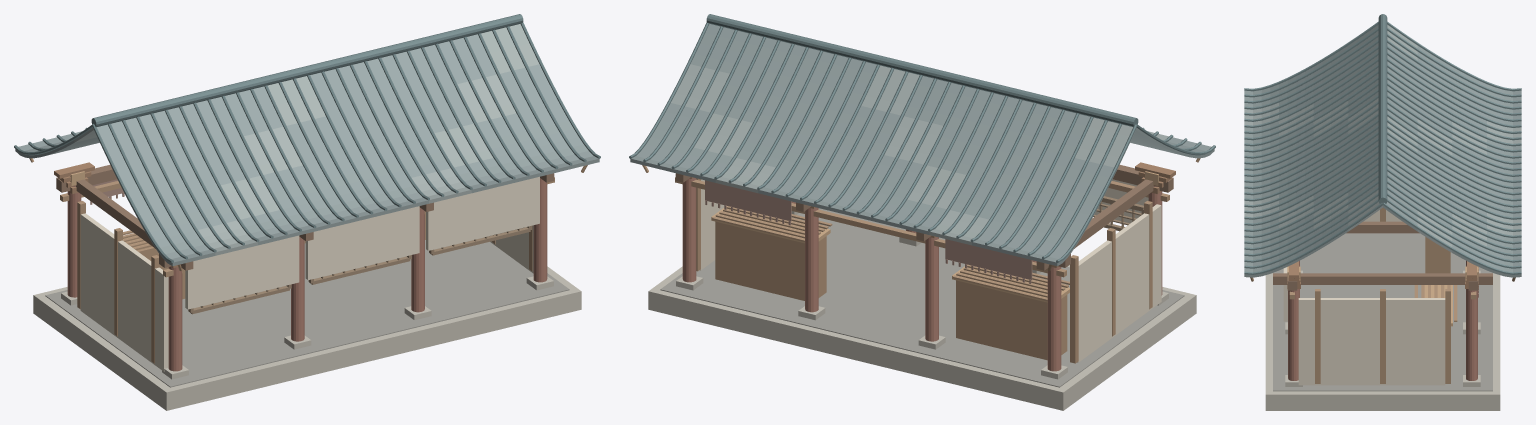
File: market-pavilion.glb
3 views of the same model, side by side, from view 1: azimuth 30°, elevation 25°; view 2: azimuth 150°, elevation 25°; view 3: azimuth 270°, elevation 25° (orthographic). The views are drawn at different scales.
Visible parts, largest first — view 1: roof, plaster, tile_joint, stone_dark, stone, roof_alt, post, timber_lit, timber, screens, bracket; view 2: roof, tile_joint, stone_dark, timber_lit, stone, roof_alt, plaster, post, fabric, timber, beam_end, bracket (+1 smaller); view 3: tile_joint, roof, plaster, stone_dark, stone, roof_alt, timber, timber_lit, post, bracket, beam_end.
Part boxes in pixels (x1,y1,x2,y2): roof: (15, 34, 599, 266); plaster: (80, 176, 539, 371); tile_joint: (14, 14, 600, 262); stone_dark: (45, 237, 569, 387); stone: (33, 266, 581, 410); roof_alt: (74, 24, 539, 255); post: (67, 178, 547, 371); timber_lit: (29, 158, 587, 363); timber: (56, 165, 554, 270); screens: (188, 225, 531, 314); bracket: (54, 162, 540, 267); roof: (630, 24, 1214, 266); tile_joint: (629, 14, 1215, 262); stone_dark: (660, 208, 1184, 387); timber_lit: (642, 158, 1200, 363); stone: (648, 211, 1196, 410); roof_alt: (671, 64, 1168, 245); plaster: (700, 179, 1161, 362); post: (682, 177, 1162, 371); fabric: (705, 180, 1032, 283); timber: (675, 165, 1173, 270); beam_end: (711, 171, 1159, 302); bracket: (689, 162, 1175, 267); tile_joint: (1244, 14, 1521, 274); roof: (1244, 24, 1521, 277); plaster: (1283, 210, 1445, 385); stone_dark: (1273, 233, 1492, 391); stone: (1265, 270, 1500, 410); roof_alt: (1244, 24, 1521, 252); timber: (1273, 221, 1492, 290); timber_lit: (1250, 208, 1515, 383); post: (1288, 260, 1477, 380); bracket: (1287, 261, 1478, 288); beam_end: (1287, 266, 1478, 326).
Size of the model in its own units: 10.71 by 5.84 by 6.81.
